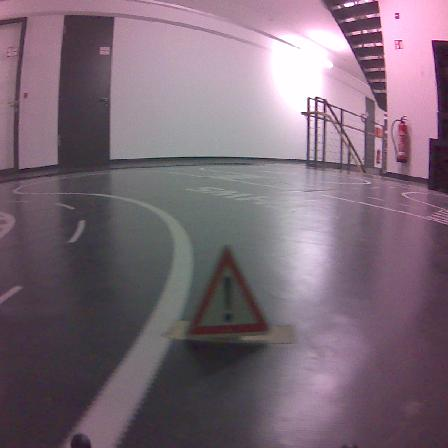ATTENTION: (188, 247, 268, 335)
